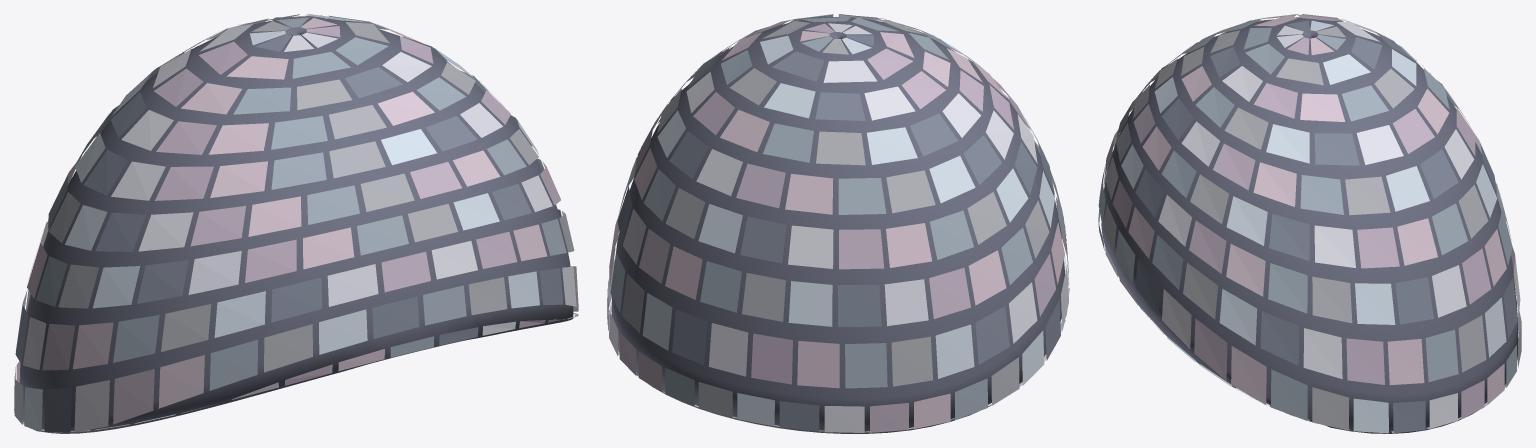
3 views of the same model, side by side, from view 1: azimuth 30°, elevation 25°; view 2: azimuth 150°, elevation 25°; view 3: azimuth 270°, elevation 25° (orthographic). The views are drawn at different scales.
Parts seen in each view (by area): view 1: disco-silver-hair; view 2: disco-silver-hair; view 3: disco-silver-hair.
Boxes of the visible parts, bbox=[...] form: disco-silver-hair: bbox=[14, 14, 578, 433]; disco-silver-hair: bbox=[607, 14, 1069, 433]; disco-silver-hair: bbox=[1098, 14, 1521, 433].
Bounding box in the file's own units: 1.28 × 0.9176 × 1.11.
